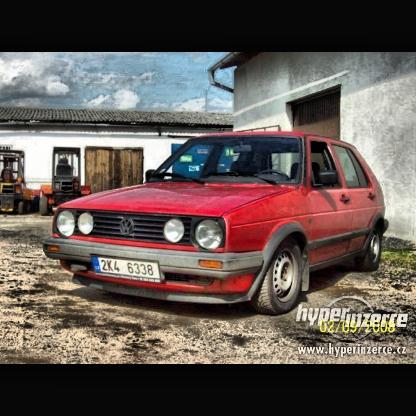Volkswagen Golf Hatchback 1991: (45, 130, 392, 316)
